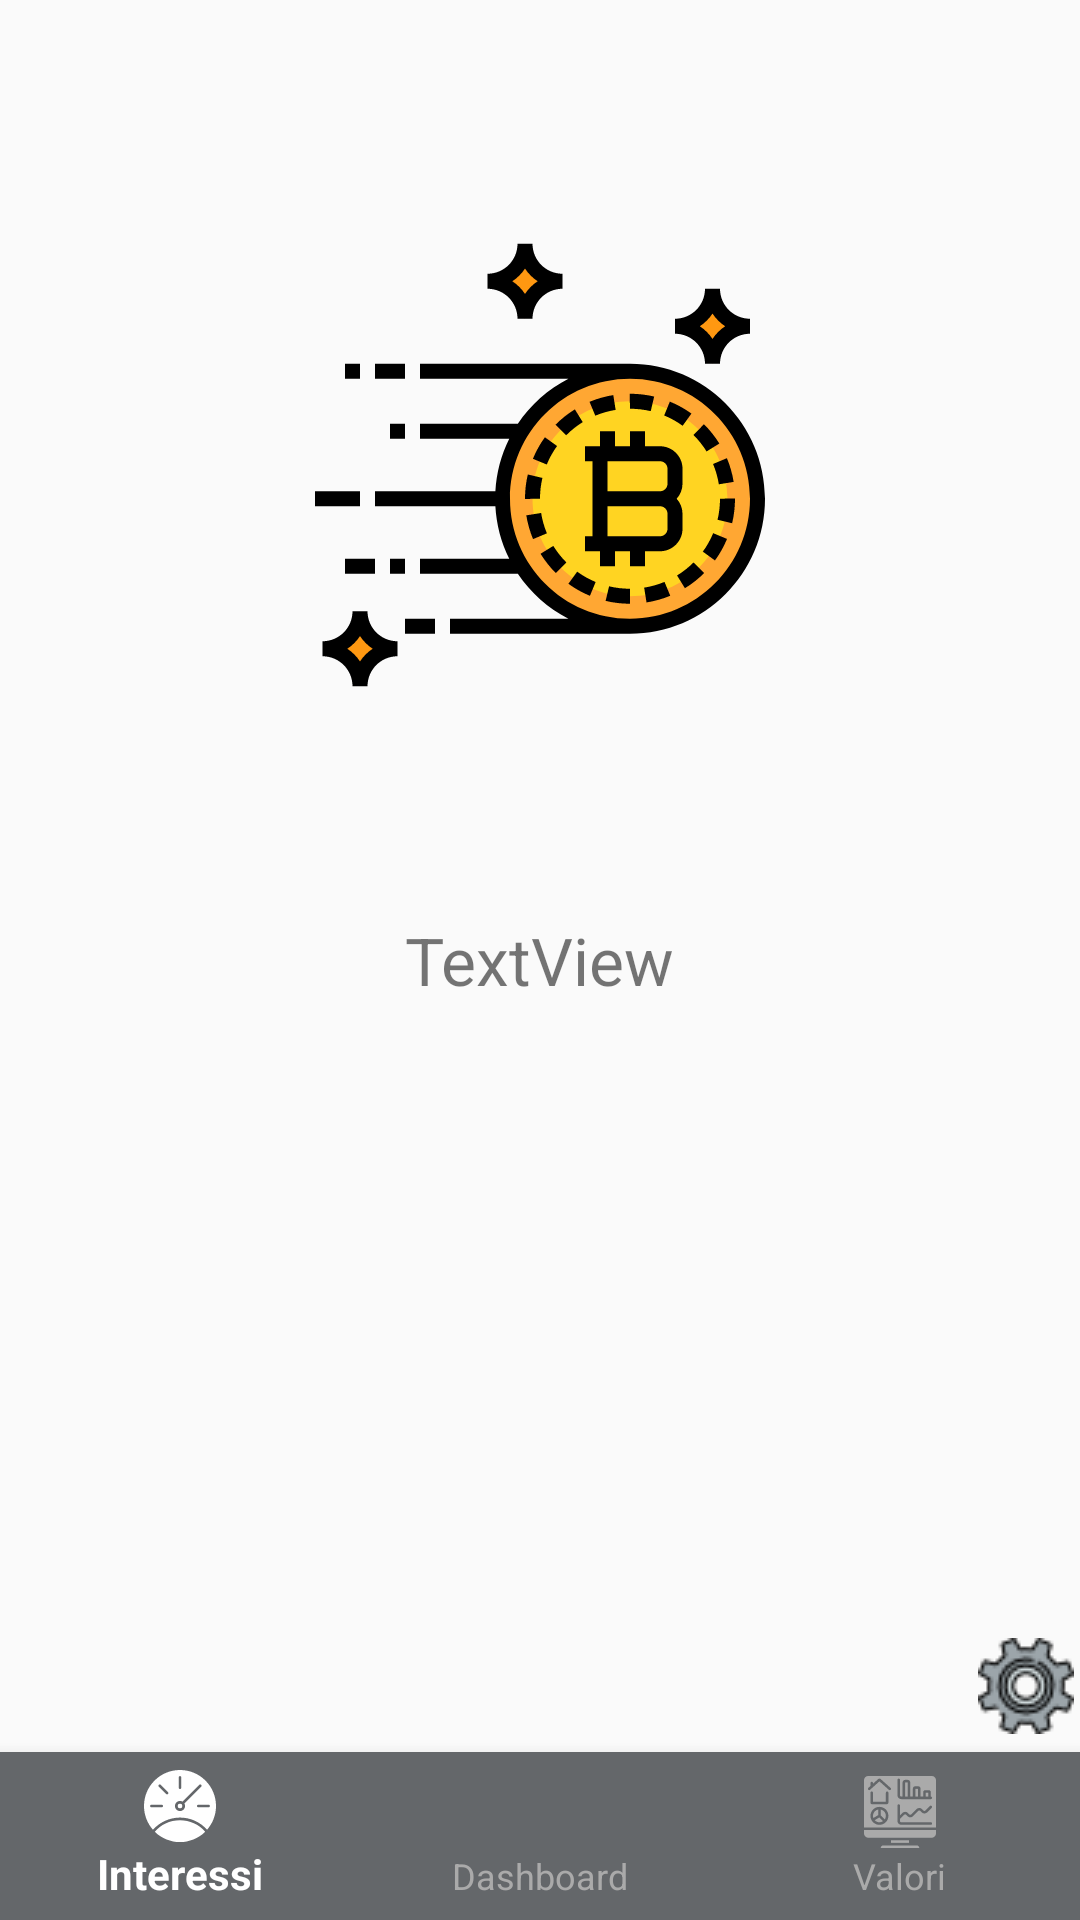

Named icons in this screenshot (1080px x 1920px) and their centers, point (x, y):
settings: point (1026, 1686)
